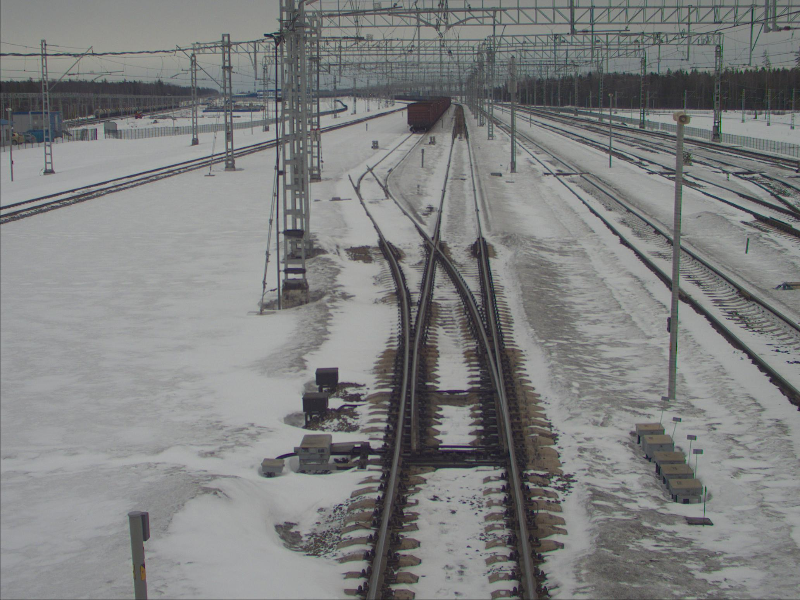left: (392, 243, 521, 451)
